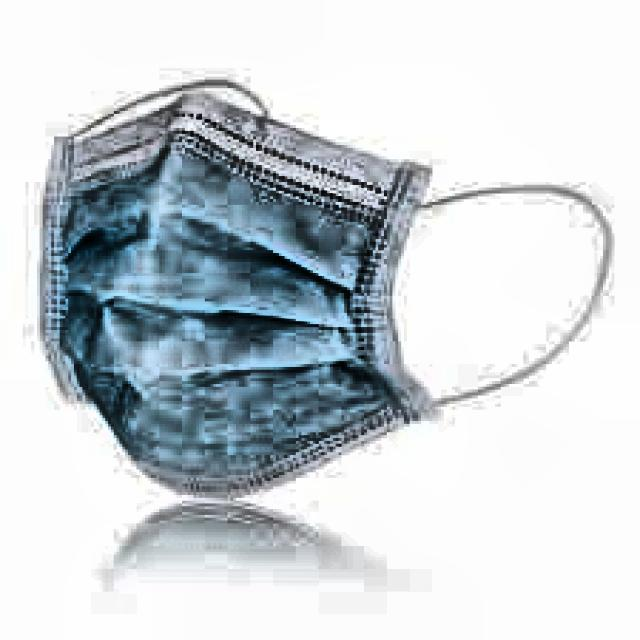trash: (26, 95, 447, 505)
